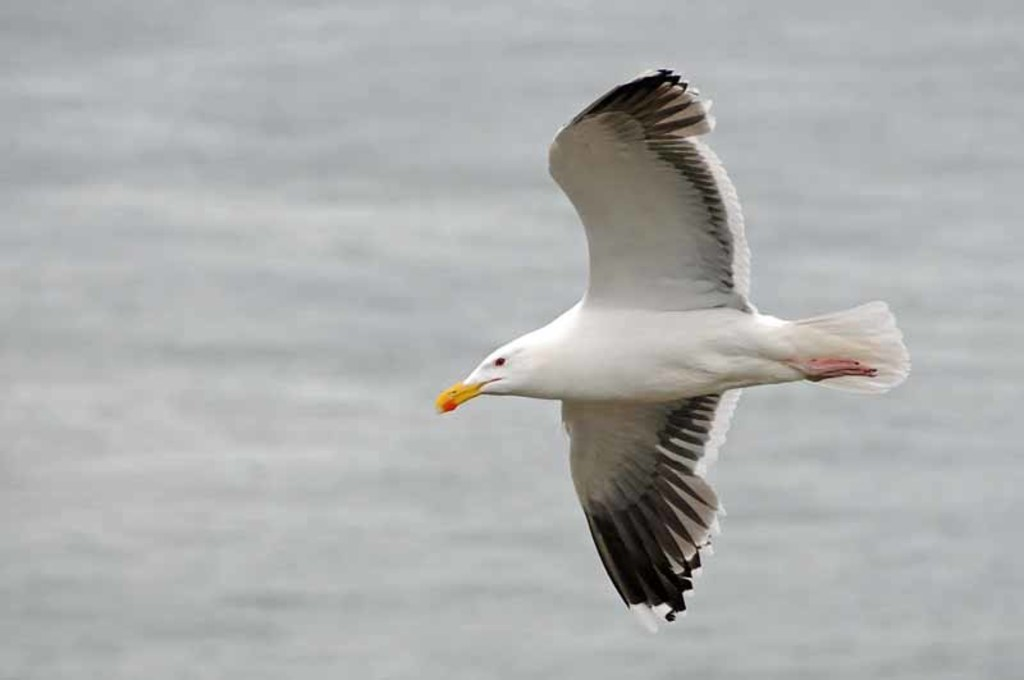Bird: (432, 68, 913, 635)
